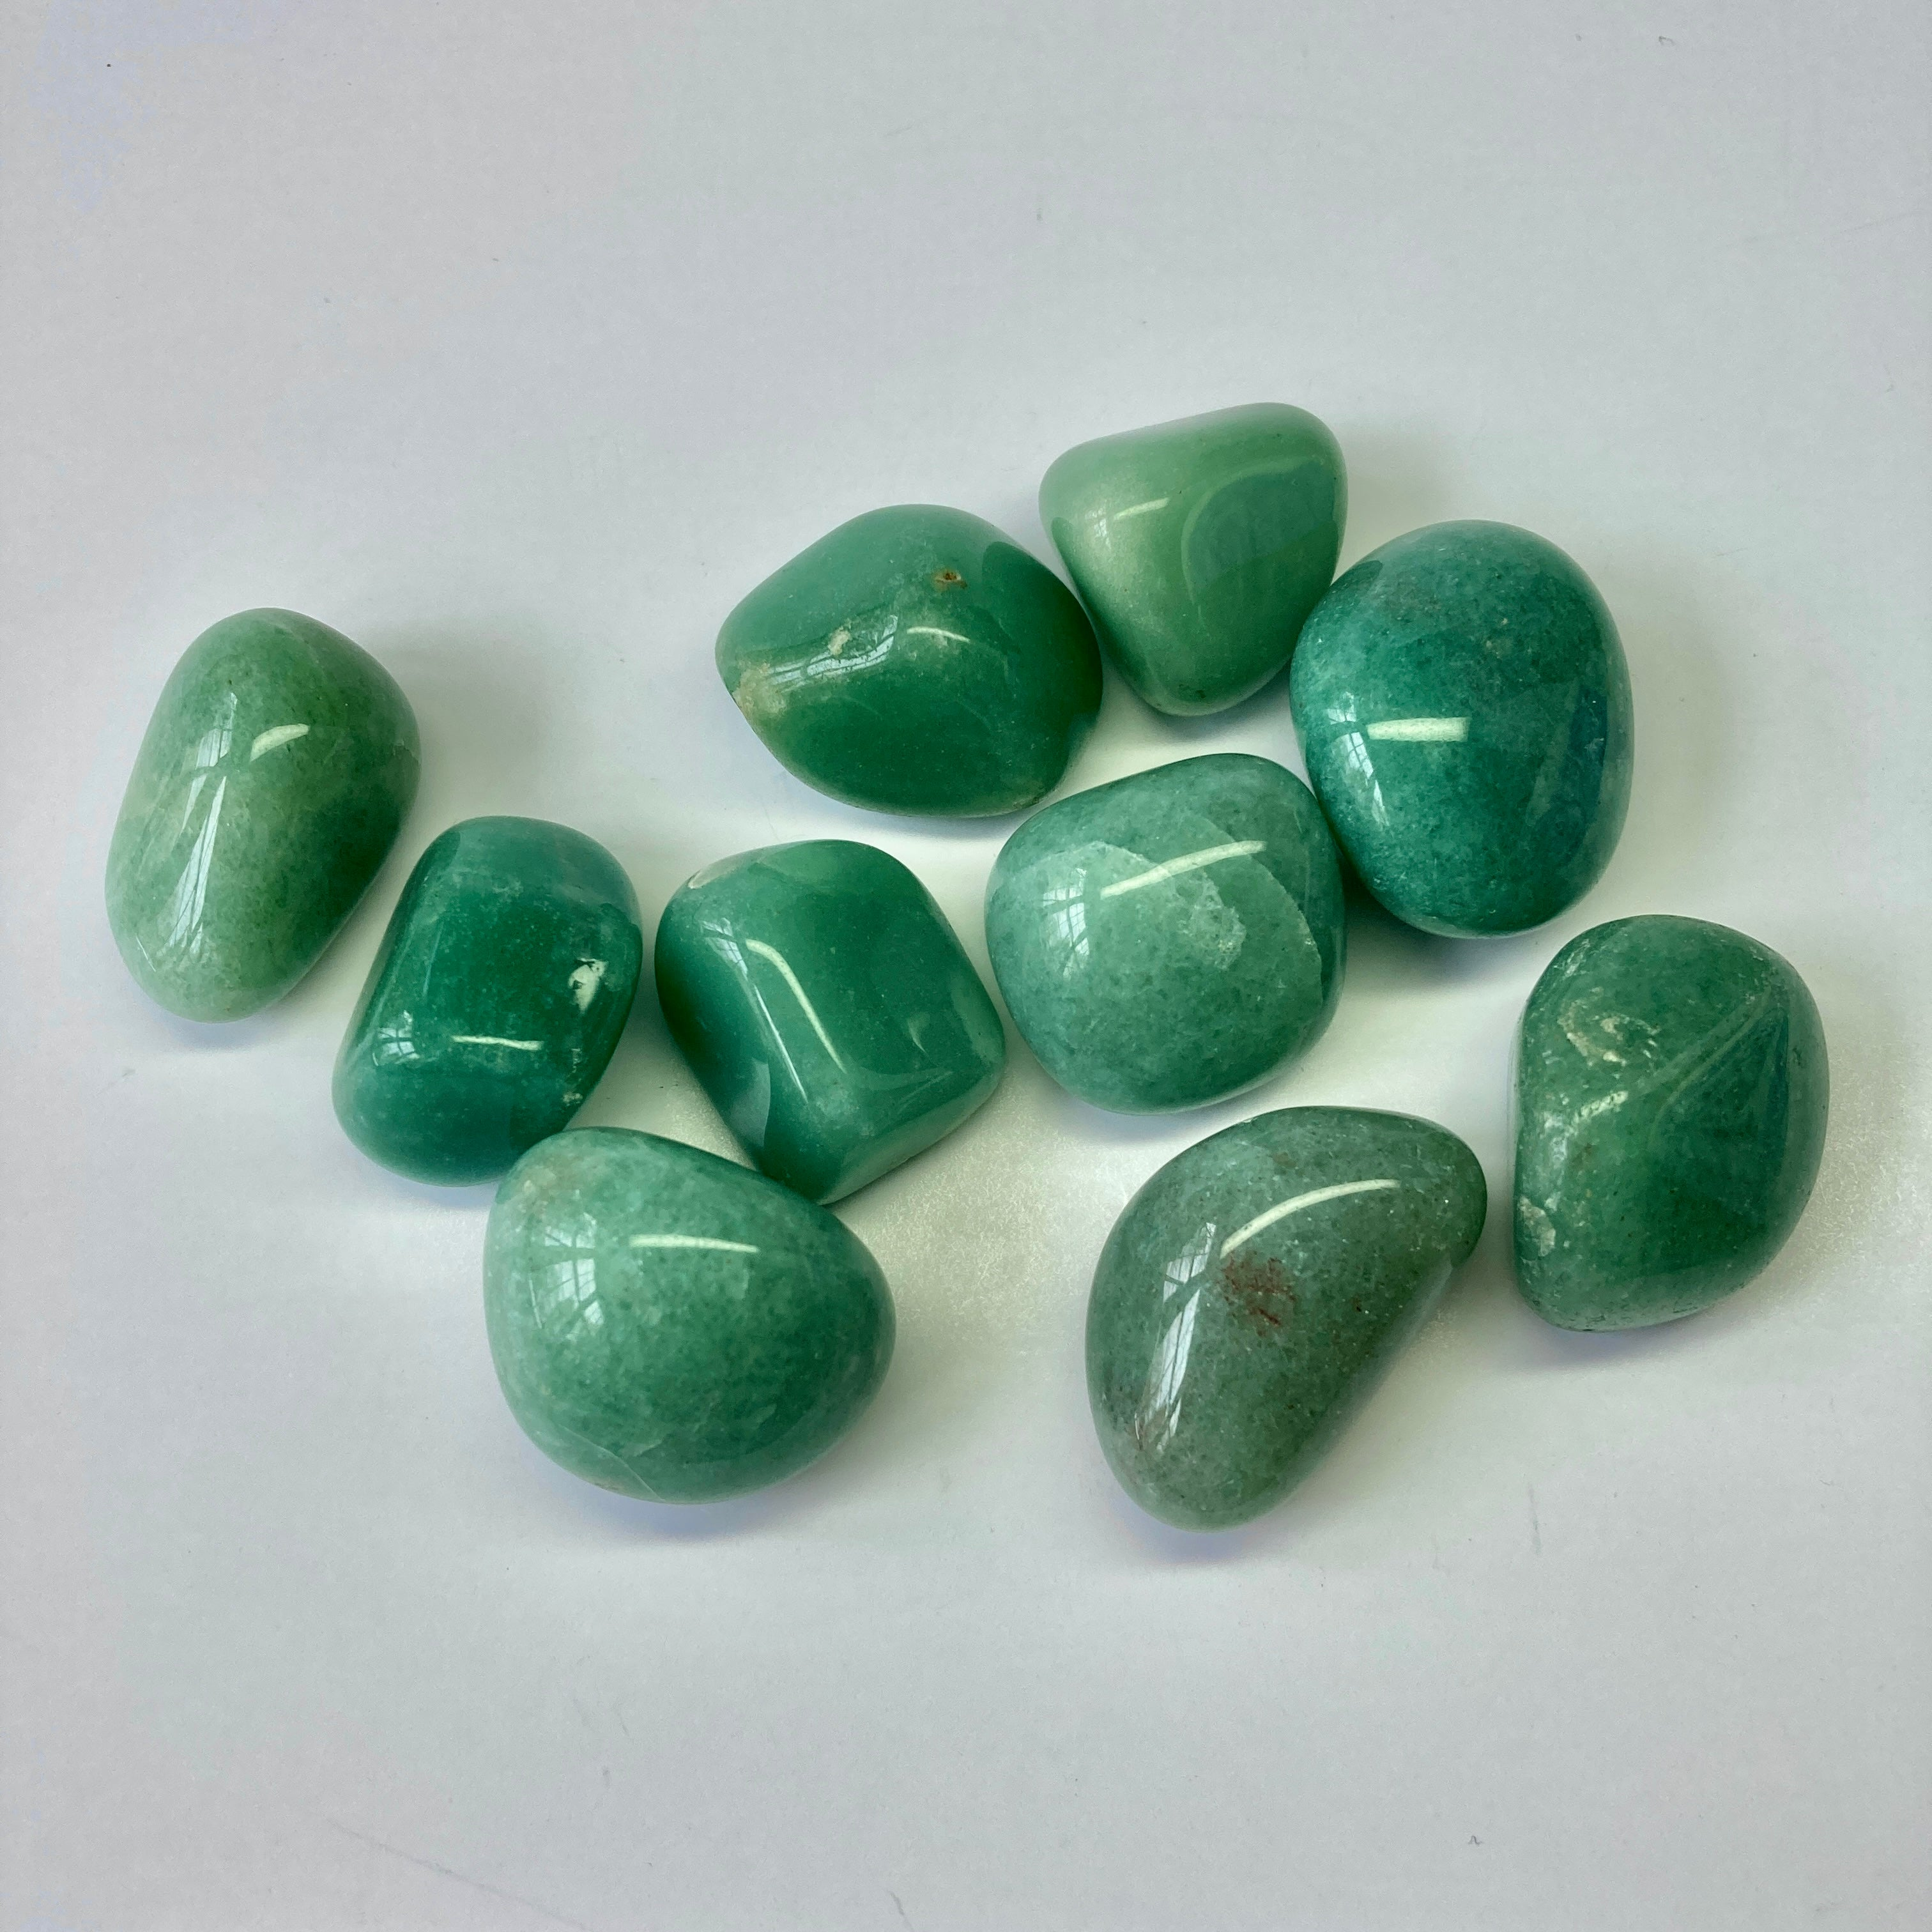Aventurine: (1088, 1109, 1497, 1530), (476, 1120, 902, 1513), (1284, 504, 1637, 947), (96, 600, 426, 1037), (702, 494, 1138, 823), (1513, 913, 1835, 1343), (985, 755, 1366, 1115), (648, 840, 1008, 1212), (327, 821, 648, 1191)
